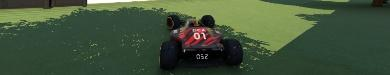Car: (158, 14, 243, 69)
grass: (0, 0, 389, 74)
obstacles-Borders: (0, 0, 88, 8)
